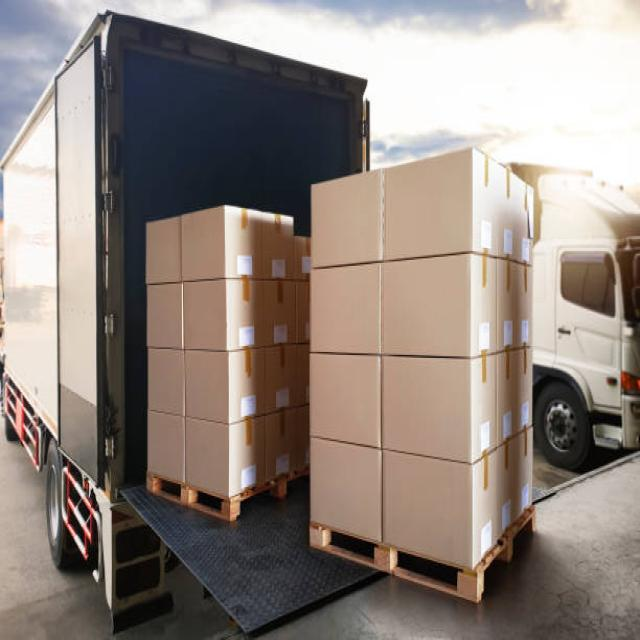Wooden-Pallets: (308, 503, 544, 613), (141, 466, 308, 530)
